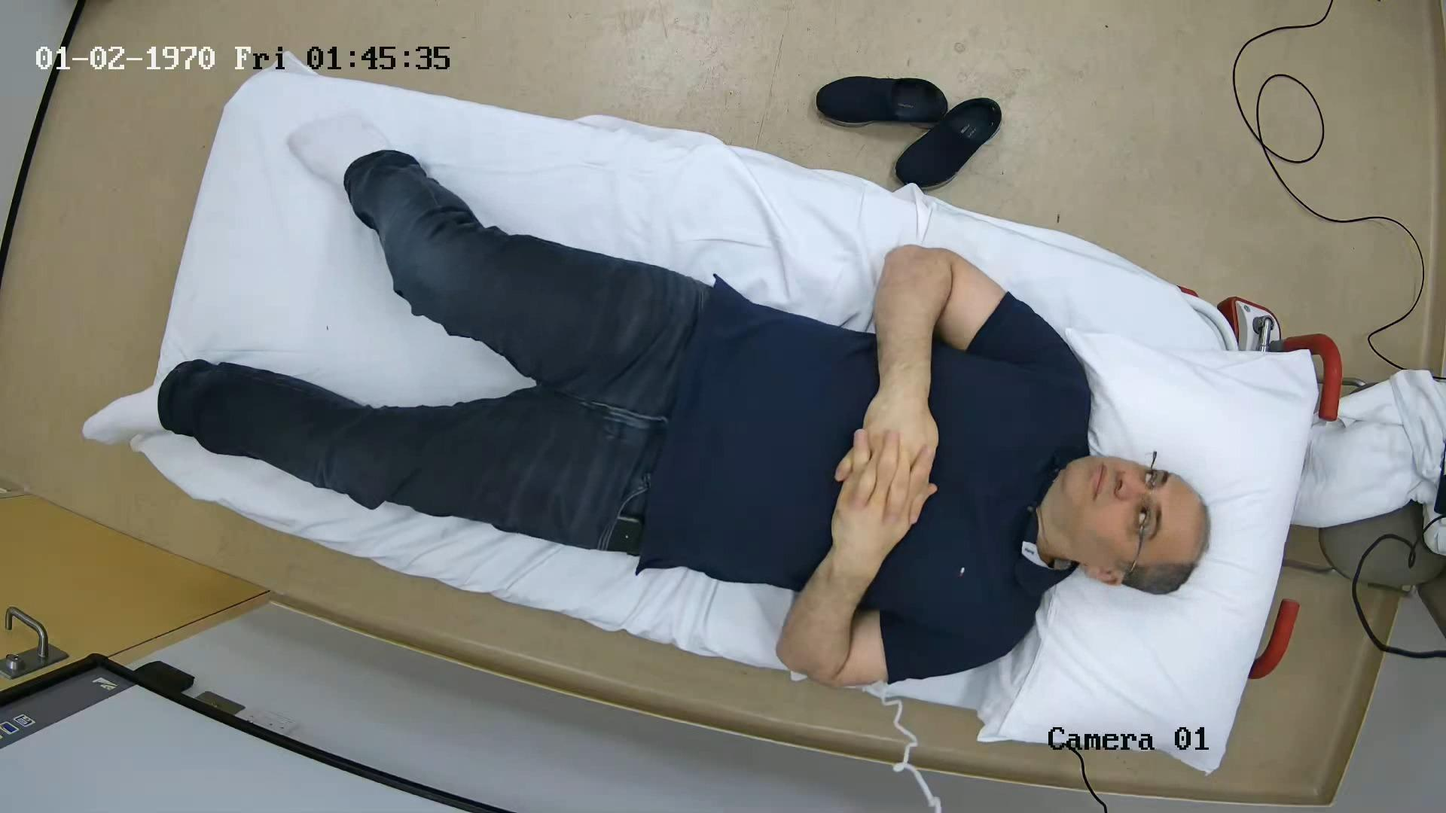bed: (134, 61, 1341, 772)
patient: (157, 151, 1209, 685)
